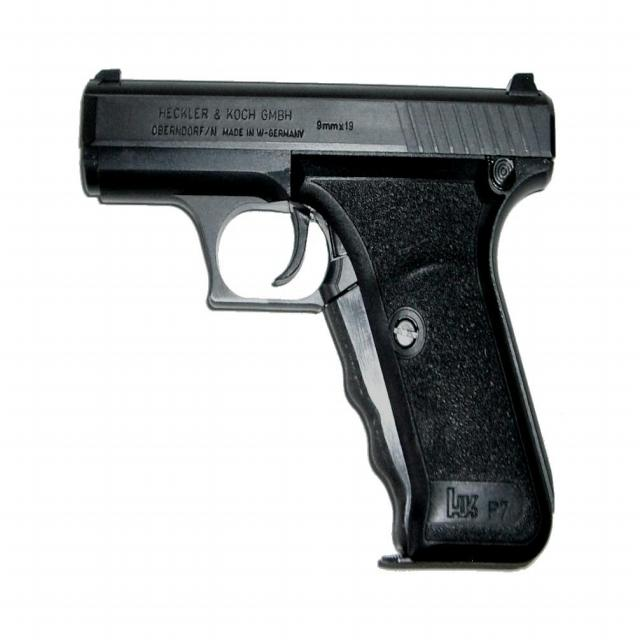pistol: (67, 56, 570, 585)
